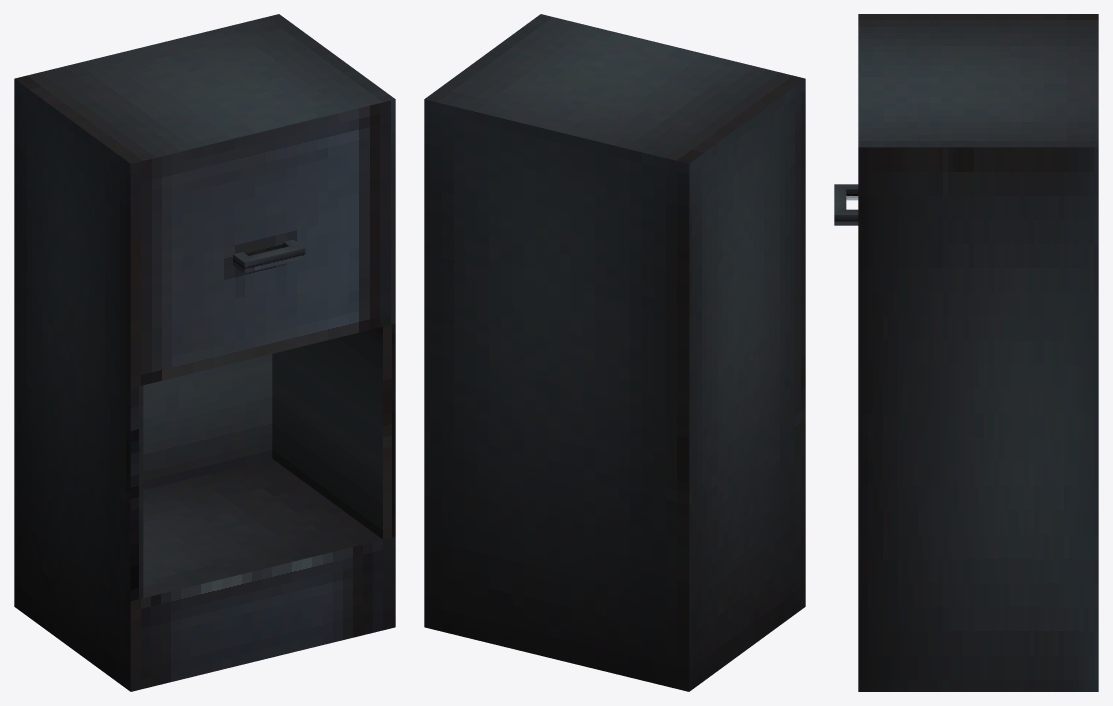
The model's file is Cabinet01.obj.
The picture shows the model from 3 angles, left to right: view 1: azimuth 30°, elevation 25°; view 2: azimuth 150°, elevation 25°; view 3: azimuth 270°, elevation 25°; orthographic projection. The views are drawn at different scales.
Parts seen in each view (by area): view 1: Cabinet01; view 2: Cabinet01; view 3: Cabinet01.
Part boxes in pixels (x1=…): Cabinet01: x1=14, y1=14, x2=395, y2=691; Cabinet01: x1=424, y1=14, x2=805, y2=691; Cabinet01: x1=834, y1=14, x2=1098, y2=691.
Size of the model in its own units: 0.525 by 1 by 0.44.
